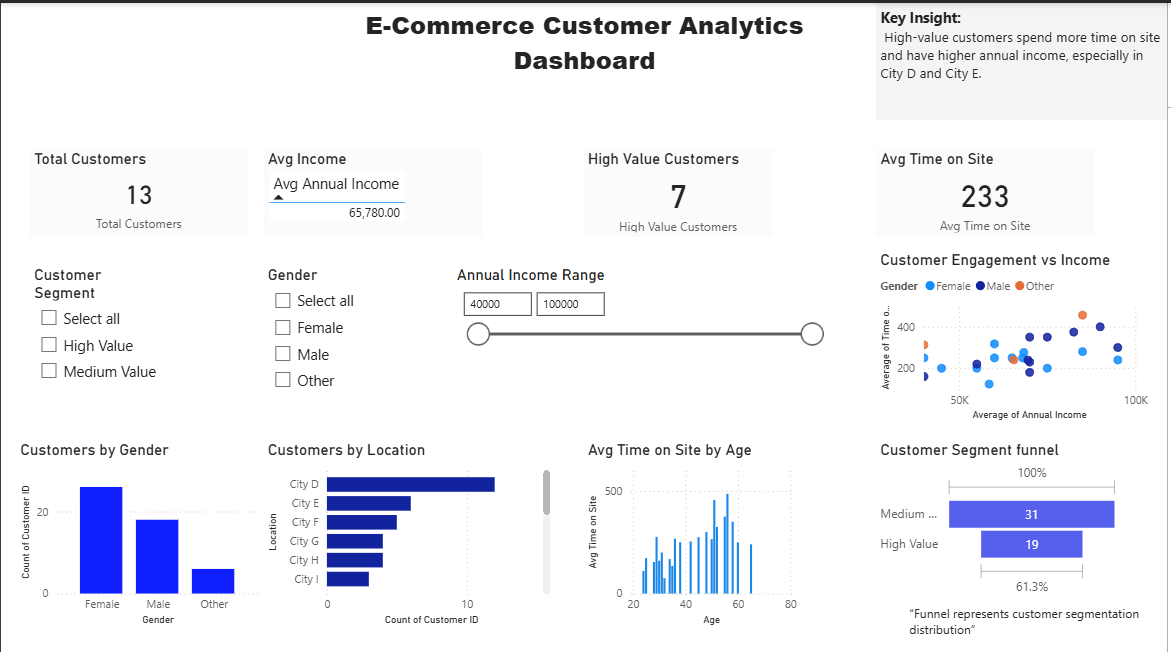

This screenshot's page, from the dashboard's own definition file:
{"tool":"powerbi","page":{"name":"Page 1","canvas":[1280,720],"ordinal":0},"visuals":[{"type":"card","title":"Avg Time on Site","fields":{"Values":["E-commerce.Avg Time on Site"]},"box":[960,160,240,96],"z":0},{"type":"tableEx","title":"Avg Income","fields":{"Values":["E-commerce.Avg Annual Income"]},"box":[288,160,240,96],"z":1000},{"type":"card","title":"High Value Customers","fields":{"Values":["E-commerce.High Value Customers"]},"box":[640,160,208,96],"z":2000},{"type":"card","title":"Total Customers","fields":{"Values":["E-commerce.Total Customers"]},"box":[32,160,240,96],"z":3000},{"type":"columnChart","title":"Avg Time on Site by Age","fields":{"Category":["E-commerce.Age"],"Y":["E-commerce.Avg Time on Site"]},"box":[640,480,240,208],"z":4000},{"type":"clusteredColumnChart","title":"Customers by Gender","fields":{"Category":["E-commerce.Gender"],"Y":["CountNonNull(E-commerce.Customer ID)"]},"box":[16,480,272,208],"z":5000},{"type":"barChart","title":"Customers  by Location","fields":{"Category":["E-commerce.Location"],"Y":["CountNonNull(E-commerce.Customer ID)"]},"box":[288,480,320,208],"z":6000},{"type":"scatterChart","title":"Customer Engagement vs Income","fields":{"Y":["Avg(E-commerce.Time on Site)"],"Series":["E-commerce.Gender"],"Category":["E-commerce.Customer ID"],"X":["Avg(E-commerce.Annual Income)"]},"box":[960,272,304,192],"z":7000},{"type":"funnel","title":" Customer Segment funnel","fields":{"Y":["CountNonNull(E-commerce.Customer ID)"],"Category":["E-commerce.Customer Segment"]},"box":[960,480,272,176],"z":8000},{"type":"slicer","title":"Annual Income Range","fields":{"Values":["E-commerce.Annual Income"]},"box":[496,288,416,128],"z":10000},{"type":"slicer","title":"Customer Segment","fields":{"Values":["E-commerce.Customer Segment"]},"box":[32,288,144,176],"z":11000},{"type":"slicer","title":"Gender","fields":{"Values":["E-commerce.Gender"]},"box":[288,288,128,176],"z":12000},{"type":"textbox","box":[992,656,288,64],"z":13000},{"type":"textbox","box":[352,0,576,144],"z":14000},{"type":"textbox","box":[960,0,320,128],"z":14001}]}

Visuals, with their boxes in screenshot pixels (x1, y1, x2, y2), scaled from the page's 1280x720 canvas onto the 1171x652 screenshot:
"Avg Time on Site" card: bbox=[878, 145, 1098, 232]
"Avg Income" tableEx: bbox=[263, 145, 483, 232]
"High Value Customers" card: bbox=[586, 145, 776, 232]
"Total Customers" card: bbox=[29, 145, 249, 232]
"Avg Time on Site by Age" columnChart: bbox=[586, 435, 805, 623]
"Customers by Gender" clusteredColumnChart: bbox=[15, 435, 263, 623]
"Customers  by Location" barChart: bbox=[263, 435, 556, 623]
"Customer Engagement vs Income" scatterChart: bbox=[878, 246, 1156, 420]
" Customer Segment funnel" funnel: bbox=[878, 435, 1127, 594]
"Annual Income Range" slicer: bbox=[454, 261, 834, 377]
"Customer Segment" slicer: bbox=[29, 261, 161, 420]
"Gender" slicer: bbox=[263, 261, 381, 420]
textbox: bbox=[908, 594, 1170, 651]
textbox: bbox=[322, 0, 849, 130]
textbox: bbox=[878, 0, 1170, 116]
